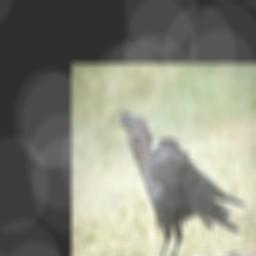Crow: (117, 111, 246, 256)
